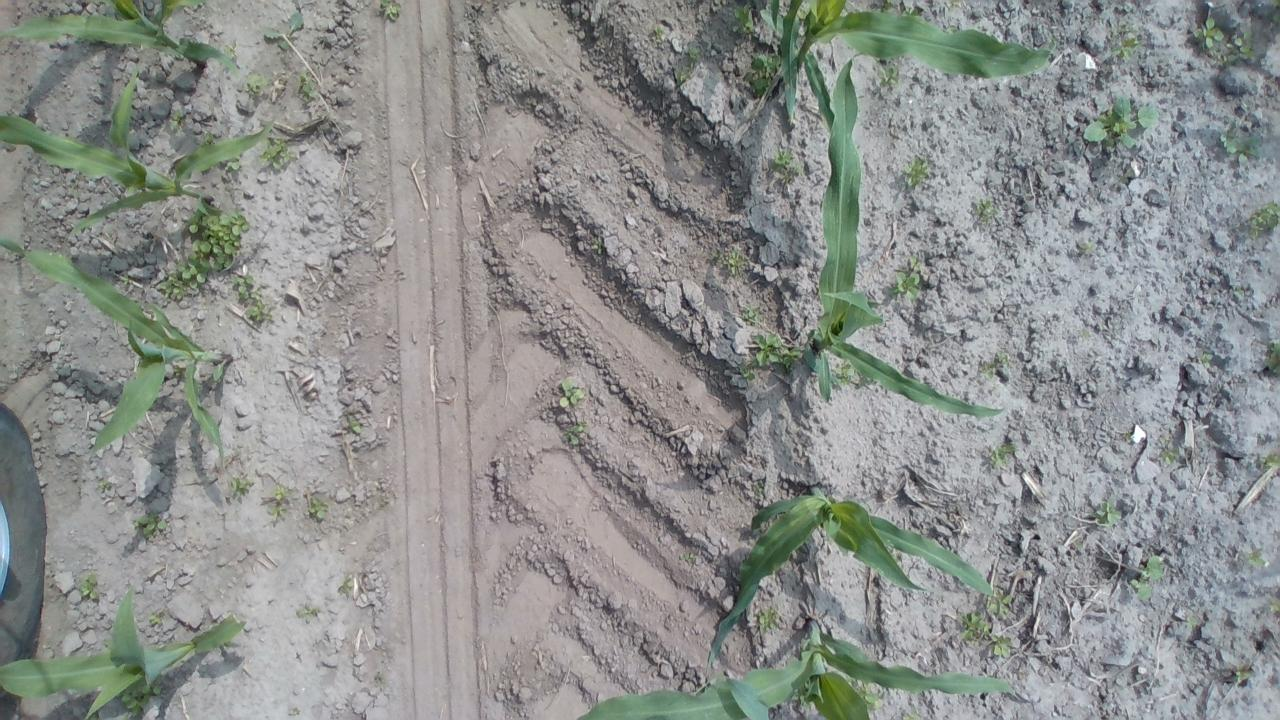Maize: (805, 37, 1004, 428), (0, 230, 228, 474), (708, 481, 992, 658), (571, 616, 1032, 720), (0, 70, 274, 234), (754, 0, 1056, 121), (0, 590, 246, 720), (0, 0, 242, 76)
Weeds: (158, 207, 250, 304), (1082, 96, 1159, 151), (1193, 16, 1256, 69), (957, 609, 1013, 658), (231, 272, 273, 322), (751, 332, 802, 371), (745, 46, 783, 97), (1220, 121, 1261, 164), (1128, 552, 1164, 598), (264, 9, 304, 50), (256, 136, 300, 172), (120, 684, 160, 720), (1247, 199, 1280, 238), (1108, 22, 1140, 62), (672, 43, 704, 82), (708, 248, 748, 276), (770, 144, 804, 176), (888, 271, 923, 301), (268, 483, 294, 522), (132, 512, 168, 540), (1089, 498, 1123, 527), (557, 377, 585, 410), (988, 441, 1018, 471), (900, 156, 930, 185), (980, 351, 1009, 380), (730, 3, 756, 35), (758, 606, 785, 635), (877, 61, 905, 88), (986, 590, 1013, 617), (226, 473, 255, 498), (975, 197, 1000, 225), (305, 494, 329, 523), (244, 72, 273, 96), (830, 362, 856, 387), (558, 423, 586, 445), (904, 255, 928, 280), (296, 72, 318, 98), (79, 570, 98, 600), (740, 303, 764, 326), (791, 686, 814, 710), (860, 684, 881, 710), (1265, 342, 1280, 376), (295, 604, 320, 624), (375, 0, 400, 20), (1245, 548, 1267, 568), (166, 110, 186, 132), (148, 607, 172, 625), (338, 575, 355, 597), (737, 360, 755, 380), (226, 153, 242, 175), (1261, 454, 1280, 472), (346, 414, 362, 434), (650, 23, 666, 43), (1160, 448, 1178, 465), (222, 41, 240, 58), (589, 236, 604, 256), (198, 130, 218, 144), (797, 0, 811, 20), (1269, 0, 1280, 25), (1200, 351, 1214, 369), (1234, 669, 1252, 683), (1184, 614, 1199, 630), (96, 478, 113, 492), (882, 0, 897, 15), (1079, 240, 1095, 254), (374, 670, 386, 688), (902, 5, 919, 17), (900, 711, 920, 720), (679, 552, 696, 562), (1232, 285, 1246, 297), (751, 483, 763, 497), (1270, 597, 1280, 613), (944, 0, 962, 8), (120, 272, 130, 286), (1123, 430, 1133, 443), (863, 378, 879, 386), (89, 712, 102, 720), (289, 706, 300, 715), (947, 26, 957, 34), (47, 170, 54, 177), (840, 9, 847, 16)
